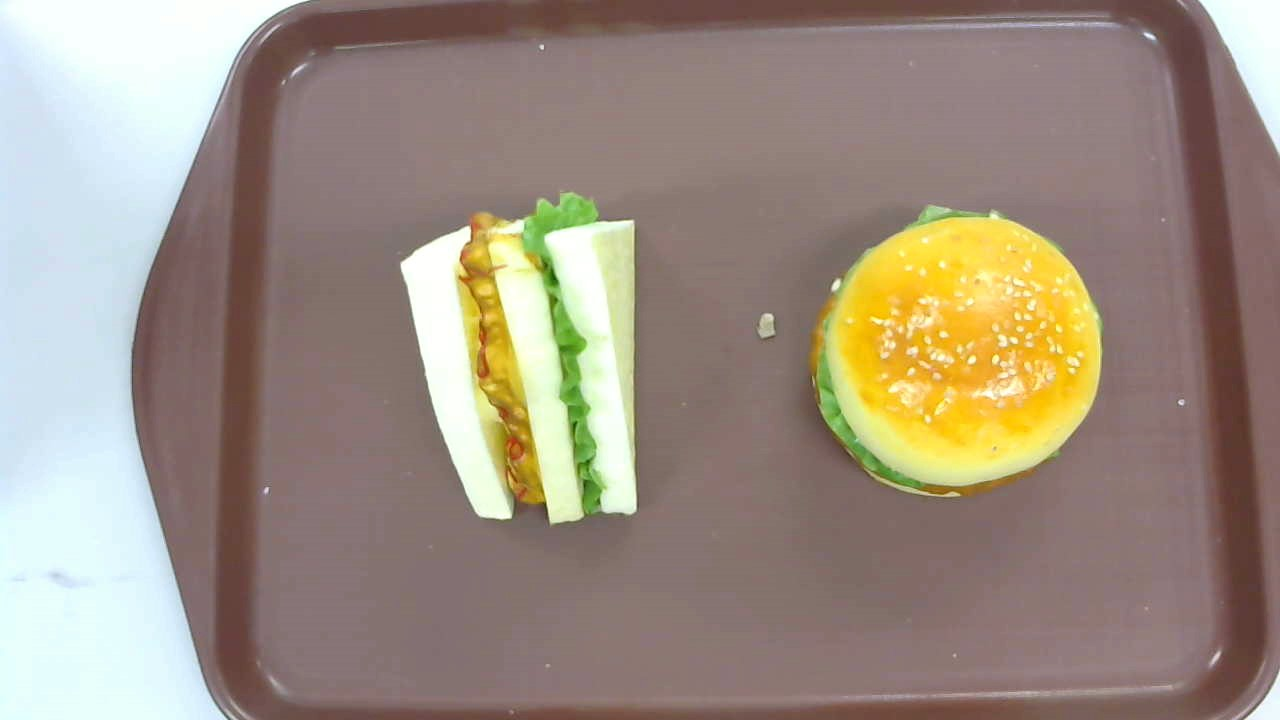hamburger: (809, 202, 1103, 498)
sandwich: (400, 191, 640, 527)
